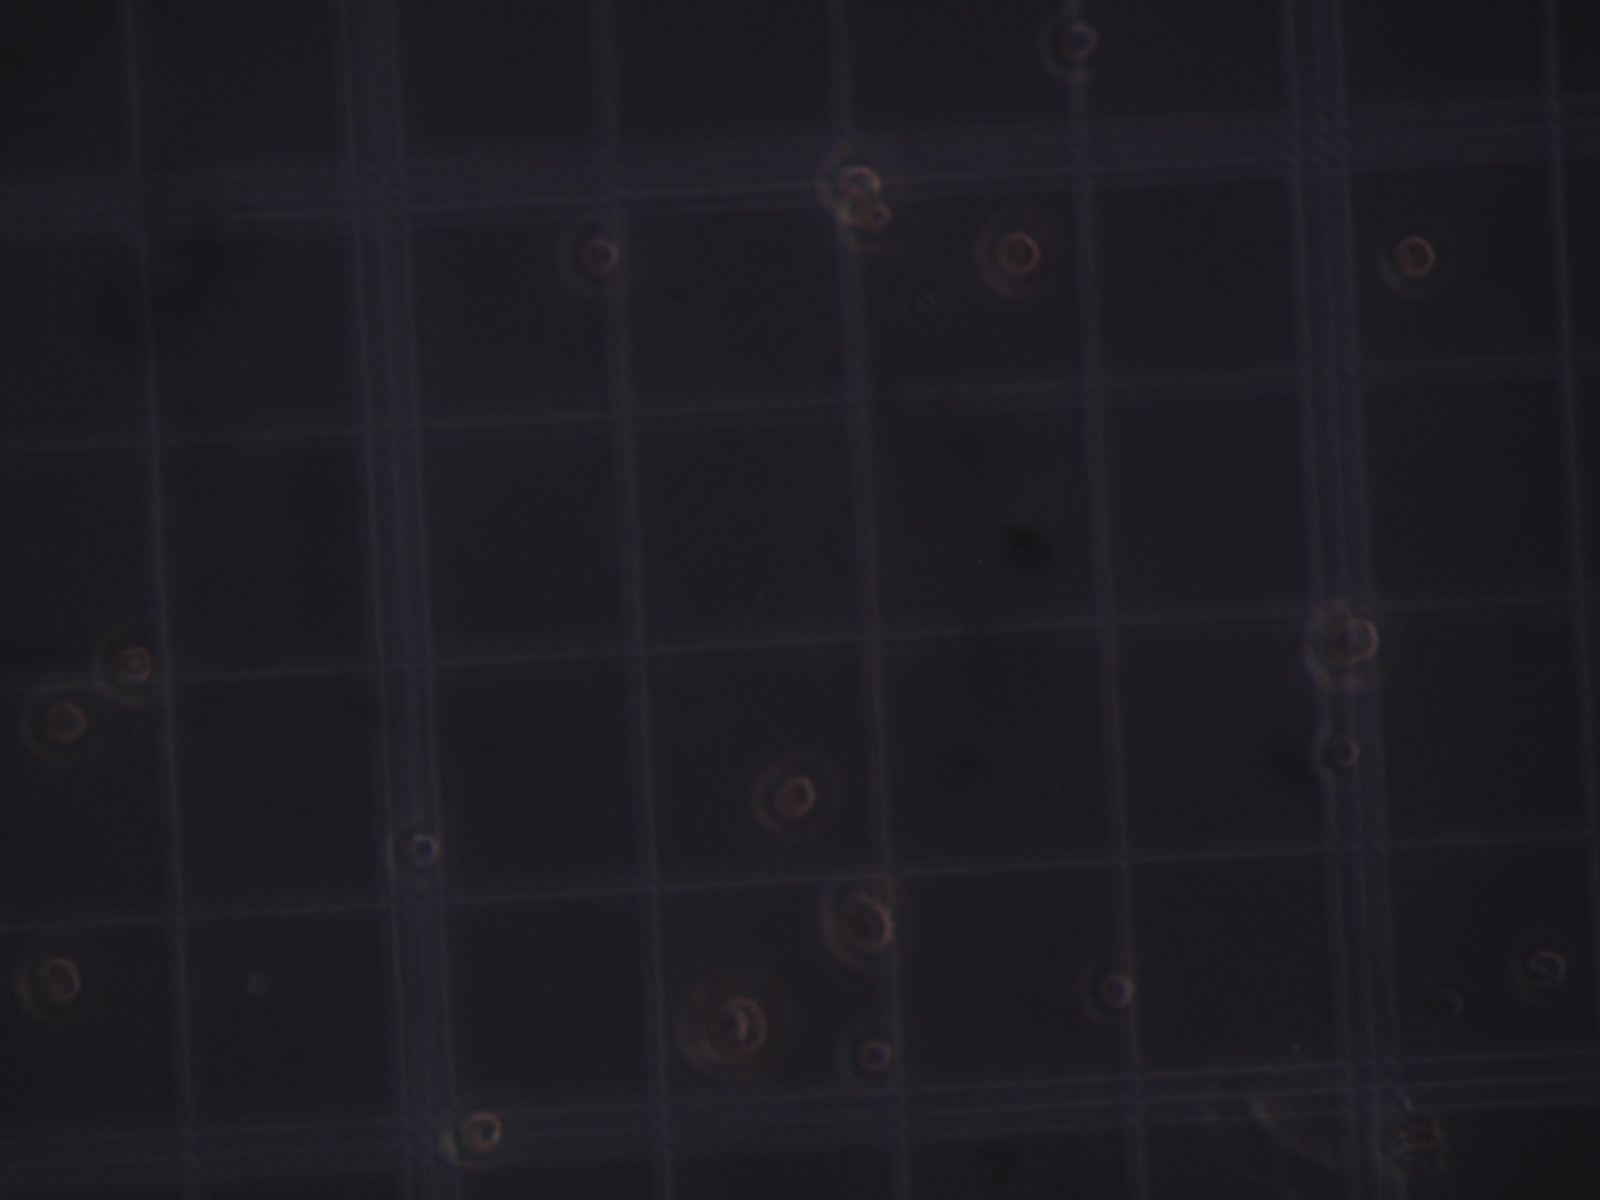hemo: (670, 971, 771, 1071), (1304, 597, 1385, 695), (818, 874, 894, 972), (21, 689, 89, 766), (974, 219, 1041, 297), (756, 758, 821, 837), (815, 150, 886, 222), (436, 1099, 506, 1171), (92, 633, 157, 710), (21, 947, 87, 1018), (553, 228, 621, 296), (387, 812, 443, 891), (1374, 228, 1435, 297), (1036, 18, 1099, 82), (1306, 717, 1364, 785), (1078, 966, 1131, 1032), (837, 1029, 893, 1089), (838, 197, 892, 255)
